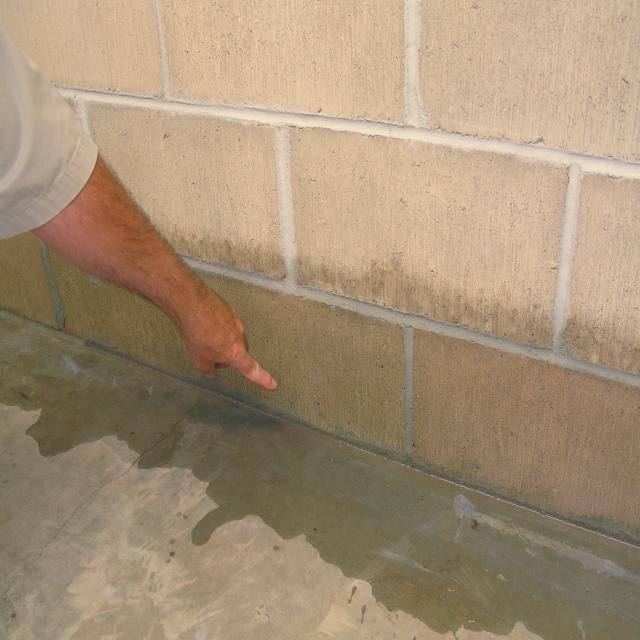Water_Leakage: (12, 189, 640, 517)
